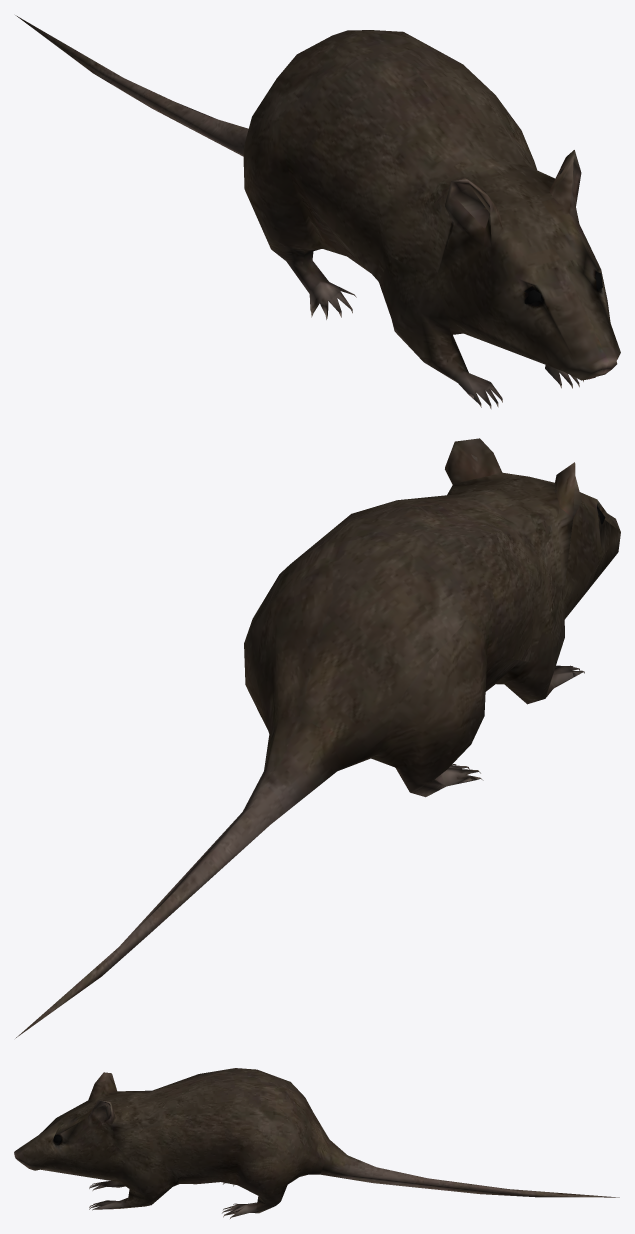
Rendered from street_rat.glb.
The picture shows the model from 3 angles, top to bottom: view 1: azimuth 30°, elevation 25°; view 2: azimuth 150°, elevation 25°; view 3: azimuth 270°, elevation 25°; orthographic projection. The views are drawn at different scales.
Visible parts, largest first — view 1: street_rat; view 2: street_rat; view 3: street_rat.
Part boxes in pixels (x1=…): street_rat: x1=15, y1=15, x2=620, y2=409; street_rat: x1=15, y1=438, x2=620, y2=1038; street_rat: x1=14, y1=1068, x2=619, y2=1218.
Bounding box in the file's own units: 0.0318 × 0.0332 × 0.1479.
Materials: 1 (1 with a texture image).
